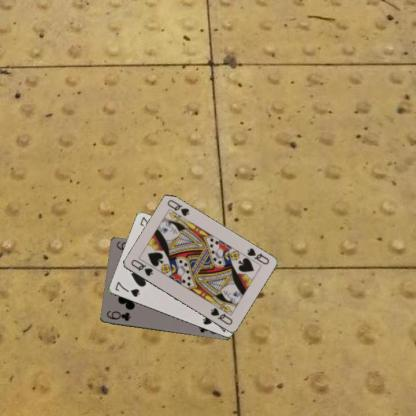6c: (104, 308, 132, 322)
7s: (112, 279, 141, 298)
Qs: (244, 245, 270, 266), (128, 257, 154, 277)
